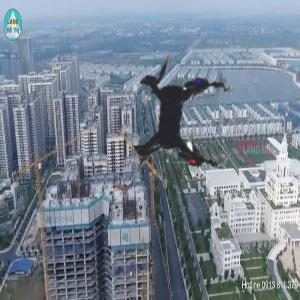drone: (66, 5, 286, 225)
